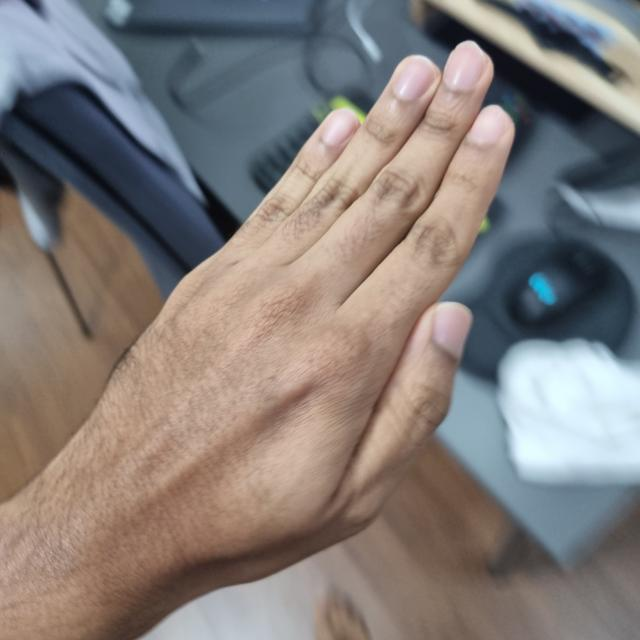Paper: (59, 44, 509, 570)
